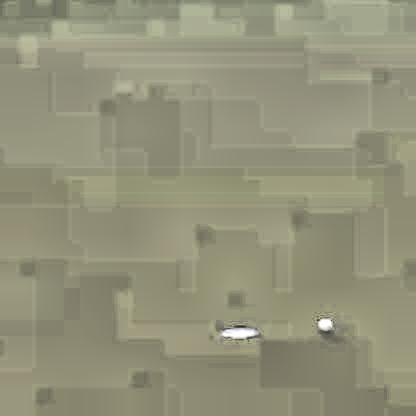golfball: (315, 315, 332, 332)
